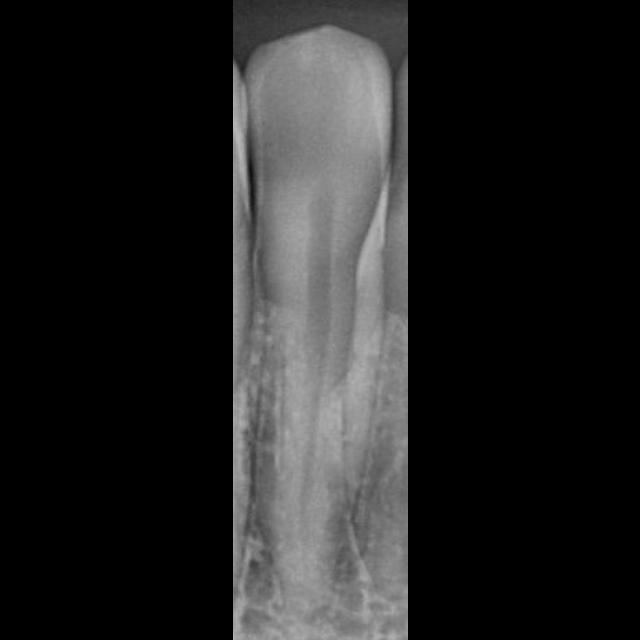tooth: (246, 26, 386, 546)
